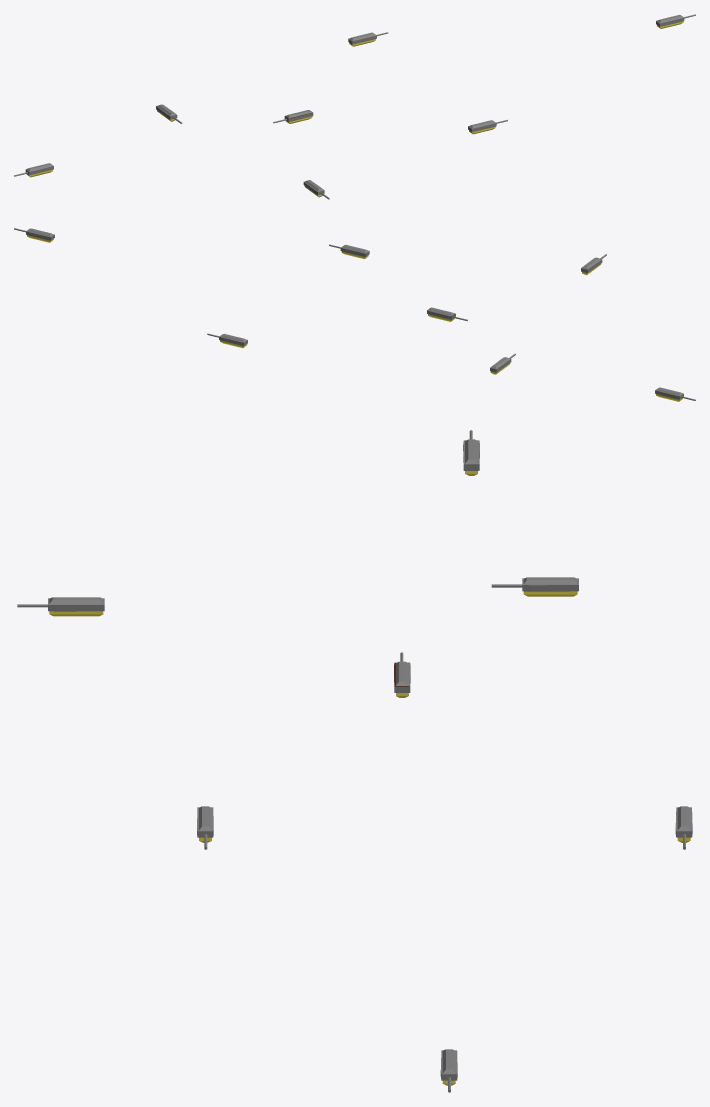
The model's file is LampLights.fbx.
The picture shows the model from 3 angles, top to bottom: view 1: azimuth 30°, elevation 25°; view 2: azimuth 150°, elevation 25°; view 3: azimuth 270°, elevation 25°; orthographic projection. The views are drawn at different scales.
Visible parts, largest first — view 1: Lamp7; view 2: Lamp4, Lamp3, Lamp1, Lamp7, Lamp5; view 3: Lamp2, Lamp6.
Boxes of the visible parts, x1,y1,x2,y2 form: Lamp7: [273, 110, 313, 123]; Lamp4: [329, 244, 369, 259]; Lamp3: [207, 333, 247, 347]; Lamp1: [655, 387, 695, 401]; Lamp7: [427, 307, 467, 321]; Lamp5: [14, 228, 54, 242]; Lamp2: [17, 597, 104, 616]; Lamp6: [491, 577, 578, 596].
Bounding box in the file's own units: 934 × 2160 × 59.6.
